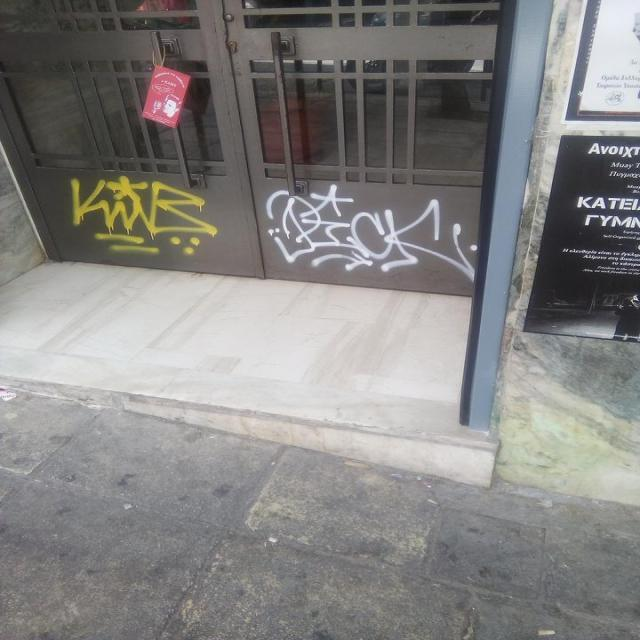nonspitting: (266, 183, 476, 280), (72, 174, 218, 253)
